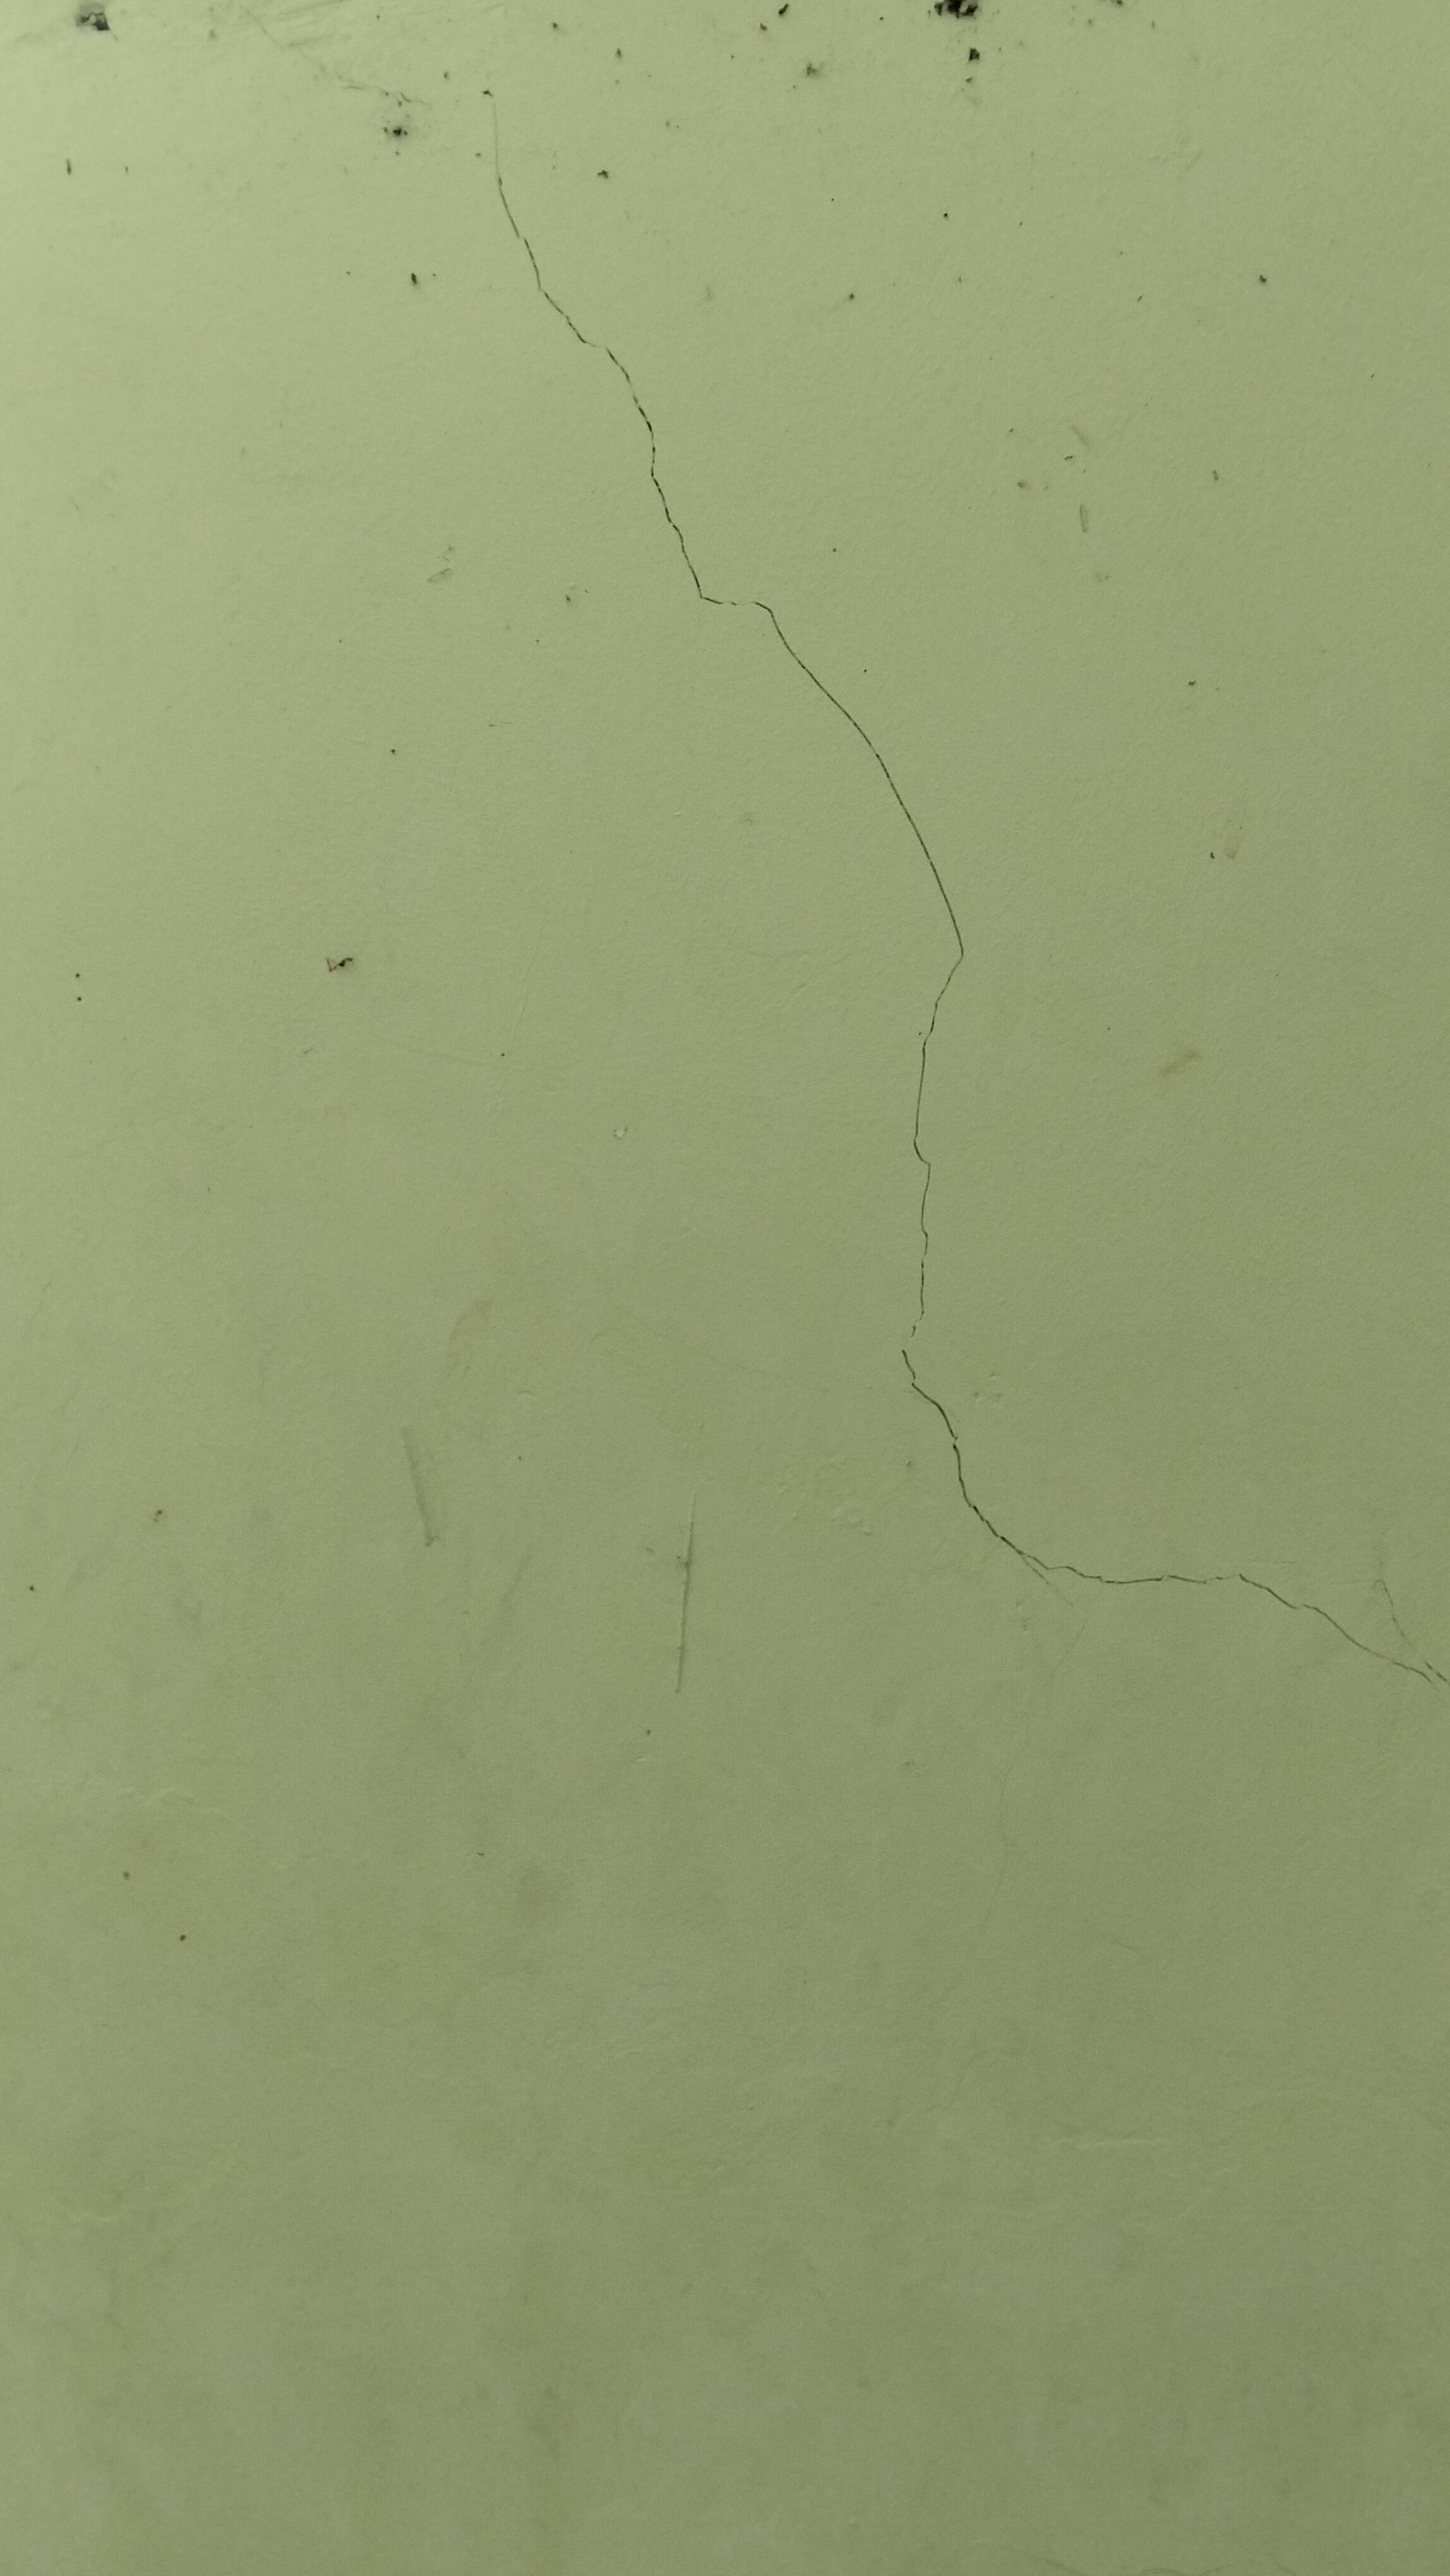Crack: (473, 88, 997, 973), (882, 939, 1075, 1619), (1027, 1536, 1450, 1700)
